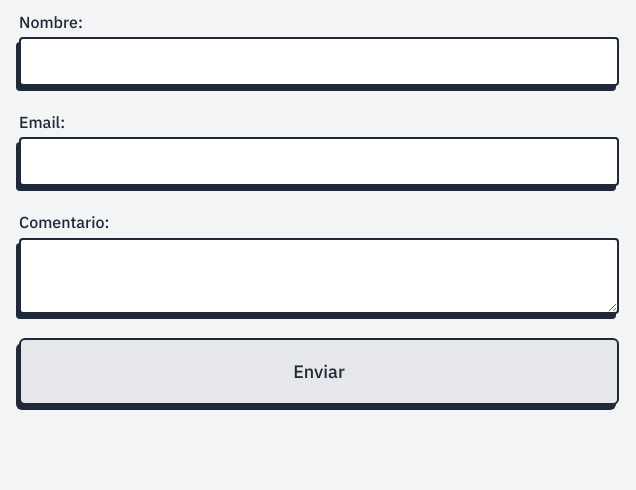
Test case: FormComponent.vue › muestra un mensaje de error si faltan campos
The image size is (636, 490).
Simular el clic en el botón de envío sin llenar los campos
Click the button with class "form__button" at (319, 371), box [19,338,619,405]
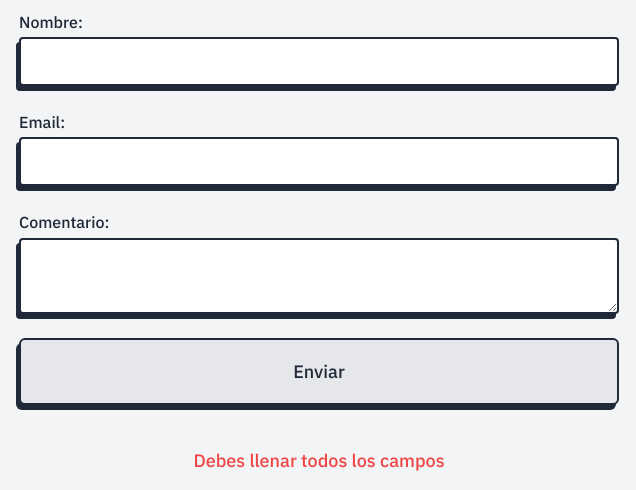
Check: the text "Debes llenar todos los campos" is shown, box [193,447,445,474]
Check: the text with class "form__message--error" reads "Debes llenar todos los campos", box [193,449,445,472]
